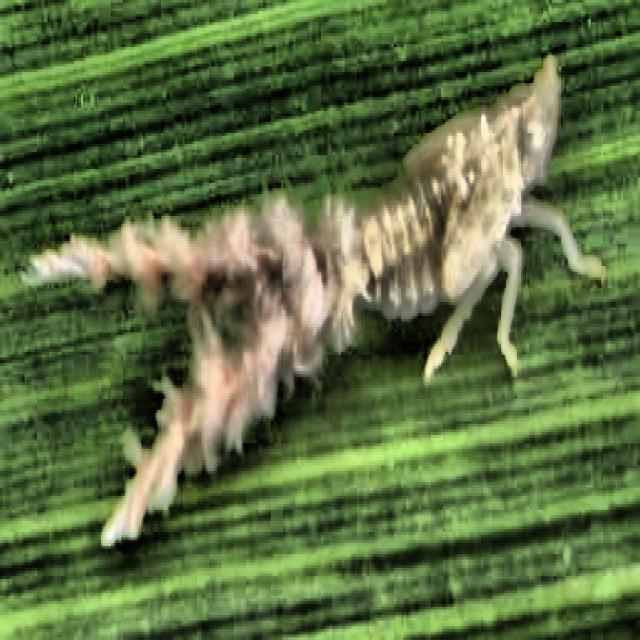Pyrilla-perpusilla: (28, 29, 570, 564)
